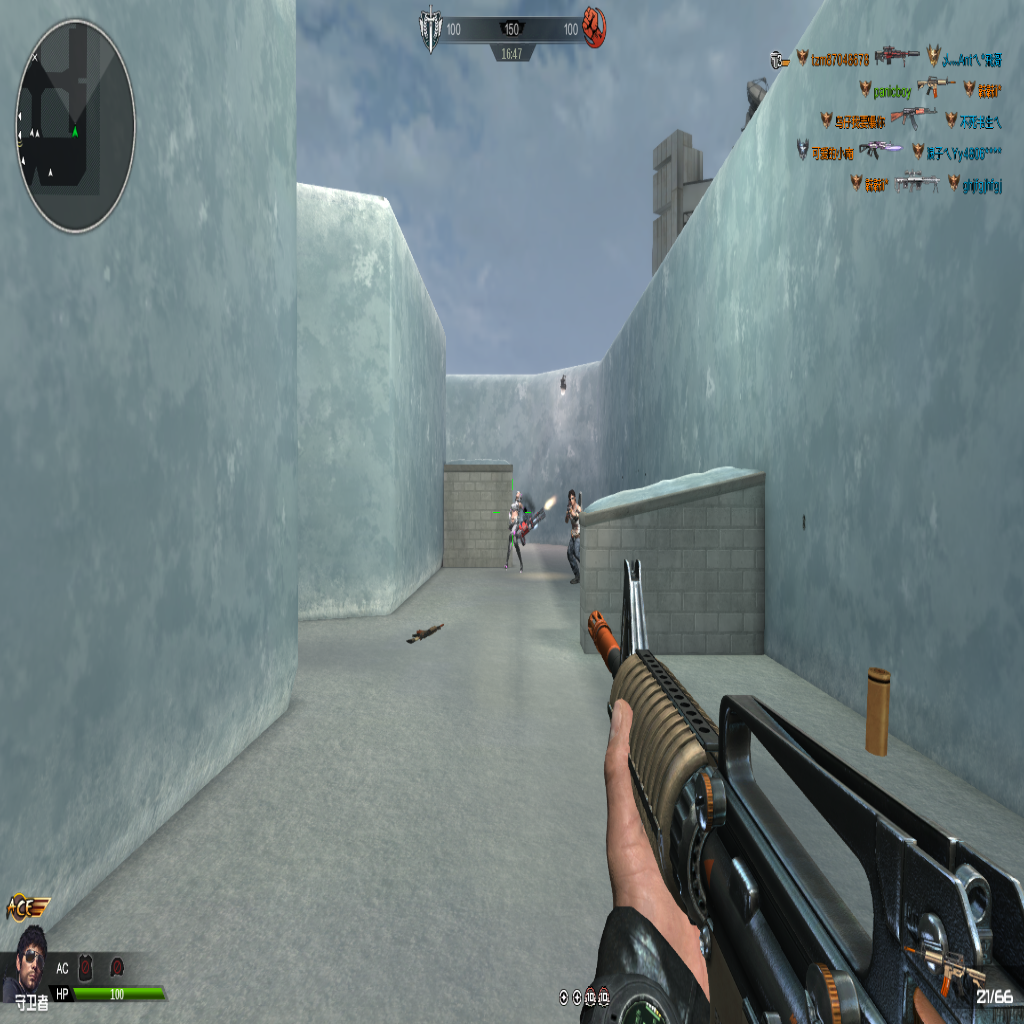tt: (506, 492, 531, 570), (566, 485, 580, 581)
